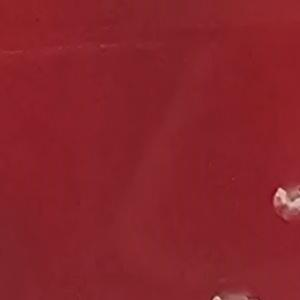colony: (267, 179, 300, 228), (202, 281, 268, 300)
